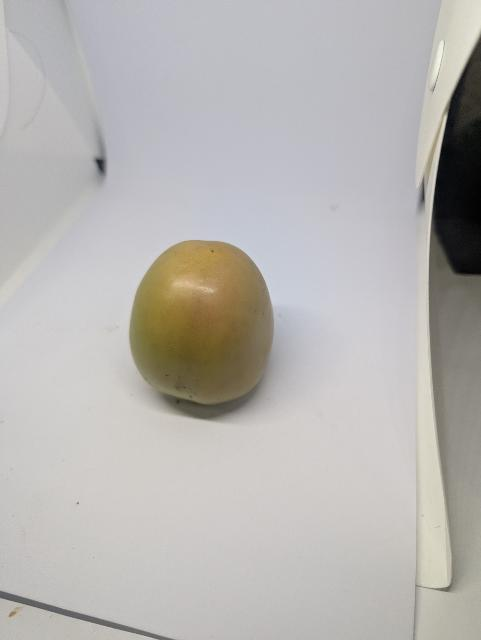breaker: (130, 240, 274, 404)
